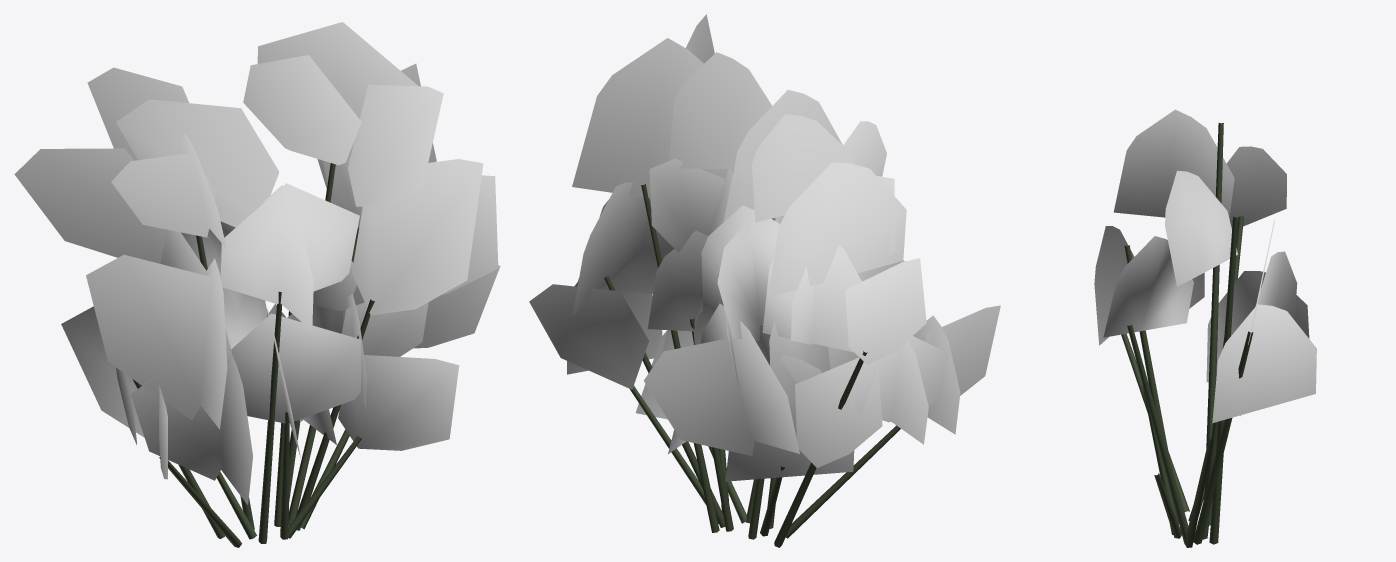
The model's file is bamboo_5.glb.
3 renders of one model, left to right at view 1: azimuth 30°, elevation 25°; view 2: azimuth 150°, elevation 25°; view 3: azimuth 270°, elevation 25°, orthographic. The views are drawn at different scales.
Parts seen in each view (by area): view 1: bamboo_5; view 2: bamboo_5; view 3: bamboo_5.
Part boxes in pixels (left/top/right/bottom): bamboo_5: left=14, top=22, right=500, bottom=547; bamboo_5: left=529, top=14, right=1000, bottom=547; bamboo_5: left=1094, top=109, right=1316, bottom=547.
Size of the model in its own units: 2.6 by 3.02 by 1.91.
